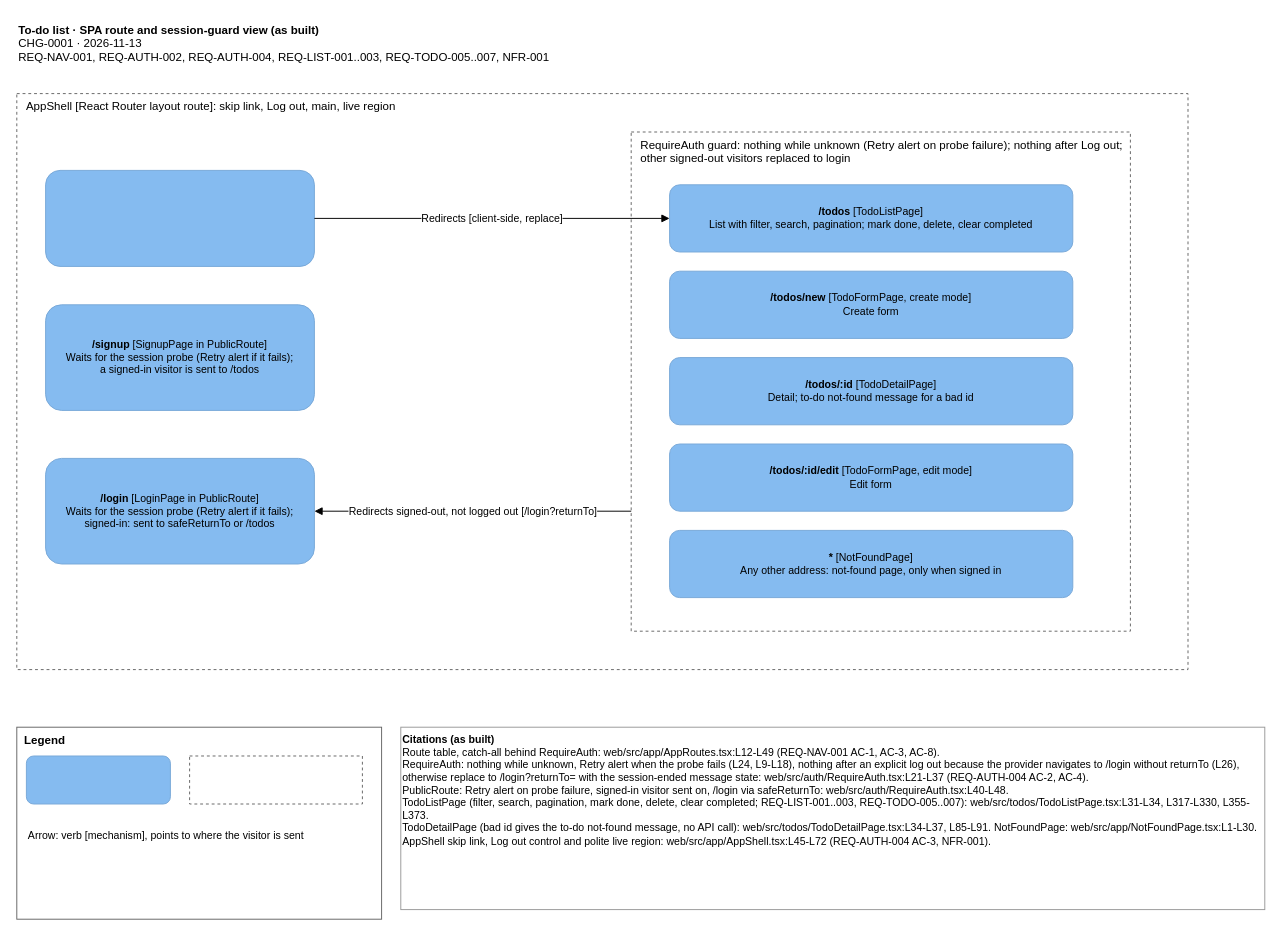
This 1282x936 diagram has some shape labels left out. Each missing label, with the centre of its shape:
/ [Navigate] Redirects to /todos, replacing the history entry: the point at 179,217
Layout or guard (dashed): the point at 275,779
Route / page component: the point at 97,779
